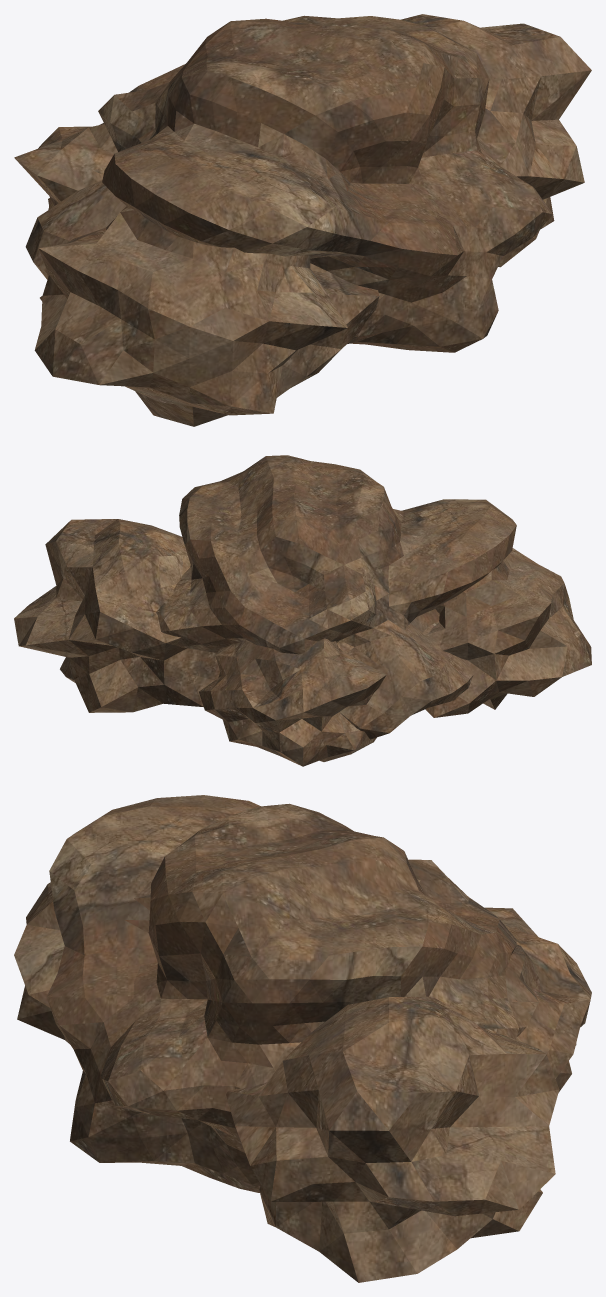
File: rock_cluster.glb
3 views of the same model, one above another, from view 1: azimuth 30°, elevation 25°; view 2: azimuth 150°, elevation 25°; view 3: azimuth 270°, elevation 25° (orthographic). The views are drawn at different scales.
Visible parts, largest first — view 1: RockCluster; view 2: RockCluster; view 3: RockCluster.
Part boxes in pixels (bbox=[...]): RockCluster: bbox=[14, 14, 591, 426]; RockCluster: bbox=[14, 455, 591, 766]; RockCluster: bbox=[14, 795, 591, 1282].
Bounding box in the file's own units: 2.48 × 1.16 × 1.86.
1 material, 1 textured.
